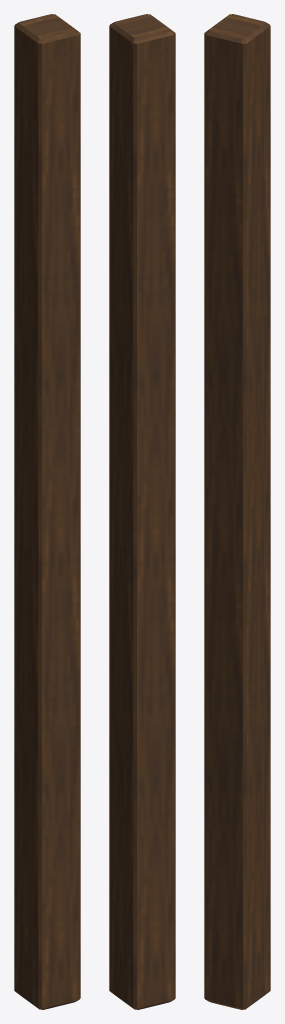
Rendered from TimberBeam.obj.
3 views of the same model, side by side, from view 1: azimuth 30°, elevation 25°; view 2: azimuth 210°, elevation 25°; view 3: azimuth 330°, elevation 25° (orthographic).
Visible parts, largest first — view 1: TimberBeam_Mesh; view 2: TimberBeam_Mesh; view 3: TimberBeam_Mesh.
Boxes of the visible parts, x1=… form: TimberBeam_Mesh: x1=14, y1=14, x2=80, y2=1009; TimberBeam_Mesh: x1=109, y1=14, x2=175, y2=1009; TimberBeam_Mesh: x1=204, y1=14, x2=270, y2=1009.
Bounding box in the file's own units: 0.11 × 2.4 × 0.12.
1 material, 1 textured.
